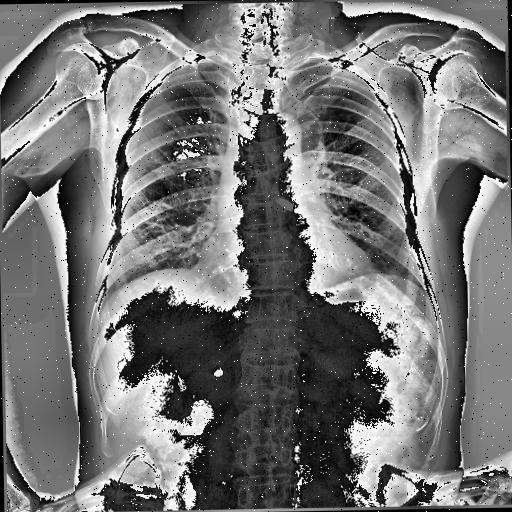0- Aortic enlargement: (256, 112, 304, 166), (256, 111, 302, 156), (258, 111, 304, 152)
3- Cardiomegaly: (192, 227, 385, 287), (192, 240, 380, 295)
5- ILD: (122, 172, 208, 275)
7- Lung Opacity: (276, 196, 294, 212)
9- Other lesion: (276, 196, 294, 212)
